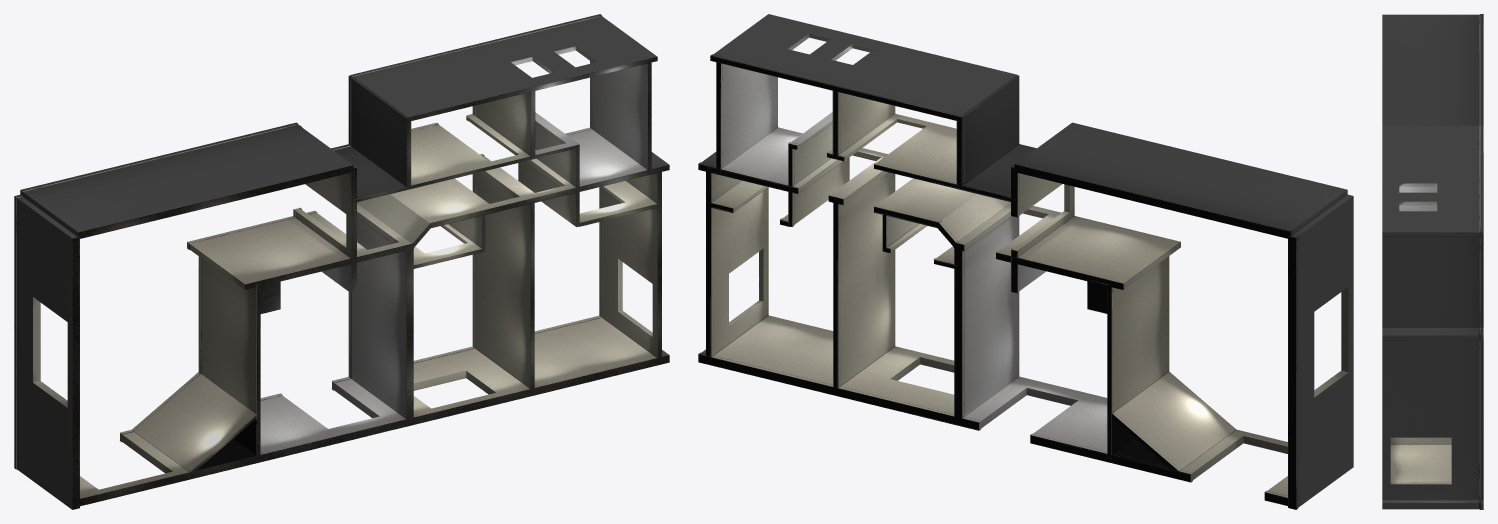
The model's file is wall_vm.obj.
The picture shows the model from 3 angles, left to right: view 1: azimuth 30°, elevation 25°; view 2: azimuth 150°, elevation 25°; view 3: azimuth 270°, elevation 25°; orthographic projection. The views are drawn at different scales.
Size of the model in its own units: 14.37 by 7.15 by 2.4.
1 material, 1 textured.
